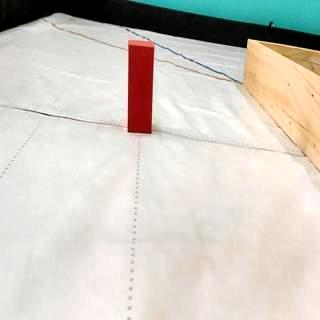redbox: (126, 39, 154, 134)
